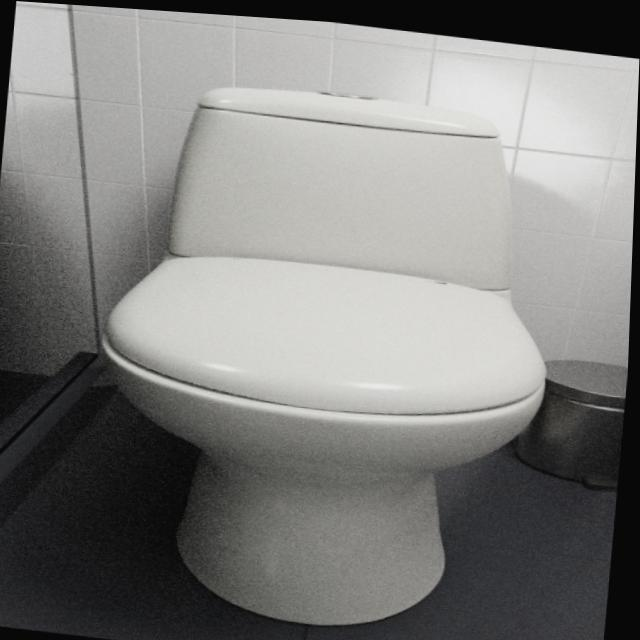toilet: (82, 64, 573, 640)
